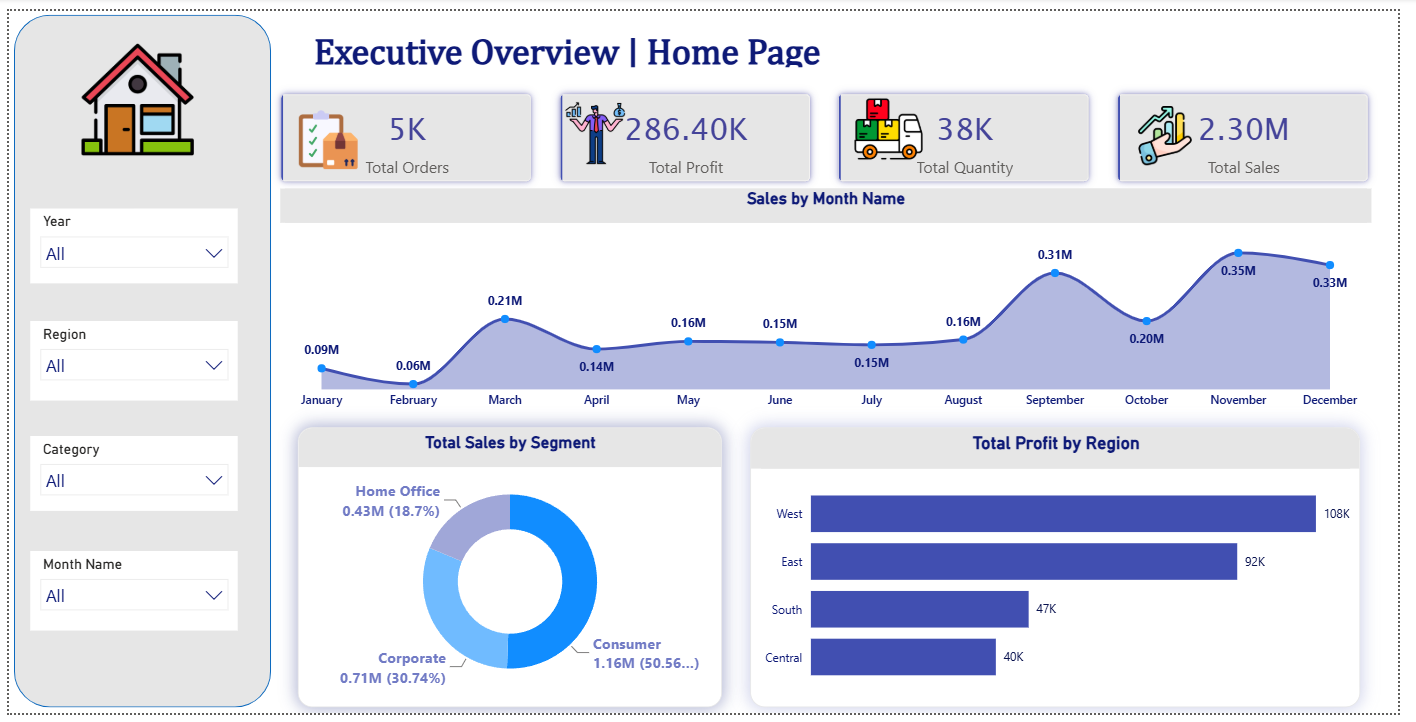

The page's visual inventory and layout, read from the dashboard file:
{"tool":"powerbi","page":{"name":"Home Page","canvas":[1425,720],"ordinal":0},"visuals":[{"type":"textbox","title":"555555","box":[307.8,0,976.6,84.4],"z":0},{"type":"cardVisual","fields":{"Data":["Orders.Total Orders","Orders.Total Profit","Orders.Total Quantity","Orders.Total Sales"]},"box":[250.6,57.1,1170.1,145.5],"z":1000},{"type":"image","box":[1129.9,97.4,111.7,61],"z":2000},{"type":"image","box":[561,90.9,81.8,68.8],"z":3000},{"type":"image","box":[296.1,57.1,62.3,149.4],"z":4000},{"type":"lineChart","title":" Sales by Month Name","fields":{"Category":["Calendar.Month Name"],"Y":["Orders.Total Sales"]},"box":[277.9,181.8,1119.5,235.1],"z":5000},{"type":"image","box":[863.6,84.4,75.3,72.7],"z":6000},{"type":"shape","box":[5.2,3.9,263.6,710.4],"z":7000},{"type":"image","box":[74,0,115.6,181.8],"z":8000},{"type":"slicer","fields":{"Values":["Calendar.Year"]},"box":[22.1,202.6,213,76.6],"z":9000},{"type":"slicer","fields":{"Values":["Orders.Region"]},"box":[22.1,318.2,213,81.8],"z":10000},{"type":"slicer","fields":{"Values":["Orders.Category"]},"box":[22.1,436.4,213,76.6],"z":11000},{"type":"donutChart","fields":{"Category":["Orders.Segment"],"Y":["Orders.Total Sales"]},"box":[296.1,427.3,435.1,287],"z":12000},{"type":"clusteredBarChart","fields":{"Category":["Orders.Region"],"Y":["Orders.Total Profit"]},"box":[759.7,427.3,626,287],"z":13000},{"type":"slicer","fields":{"Values":["Calendar.Month Name"]},"box":[22.1,553.2,213,81.8],"z":14000}]}

Visuals, with their boxes in screenshot pixels (x1, y1, x2, y2), scaled from the page's 1425x720 canvas onto the 1416x722 screenshot:
"555555" textbox: box(306, 0, 1276, 85)
cardVisual - Orders.Total Orders x Orders.Total Profit: box(249, 57, 1412, 203)
image: box(1123, 98, 1234, 159)
image: box(557, 91, 639, 160)
image: box(294, 57, 356, 207)
" Sales by Month Name" lineChart: box(276, 182, 1389, 418)
image: box(858, 85, 933, 158)
shape: box(5, 4, 267, 716)
image: box(74, 0, 188, 182)
slicer - Calendar.Year: box(22, 203, 234, 280)
slicer - Orders.Region: box(22, 319, 234, 401)
slicer - Orders.Category: box(22, 438, 234, 514)
donutChart - Orders.Segment x Orders.Total Sales: box(294, 428, 727, 716)
clusteredBarChart - Orders.Region x Orders.Total Profit: box(755, 428, 1377, 716)
slicer - Calendar.Month Name: box(22, 555, 234, 637)
